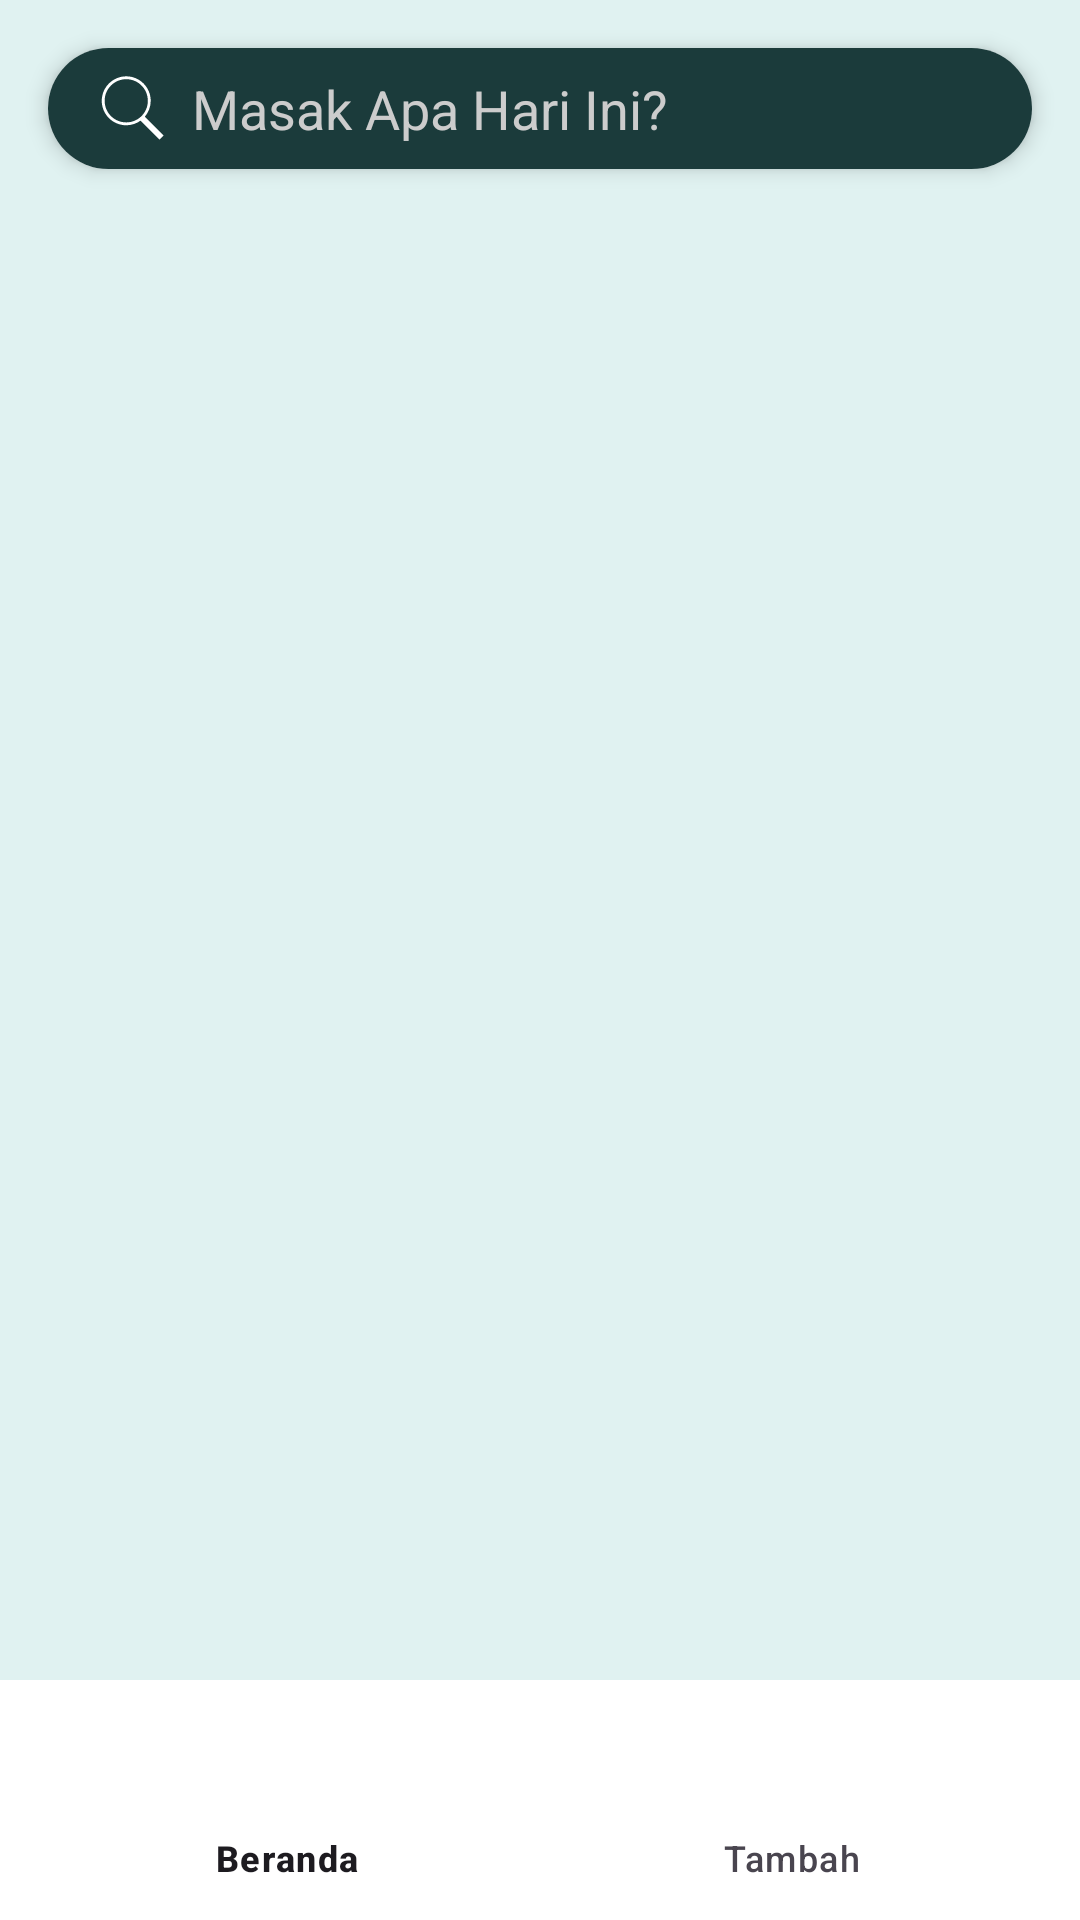

Named icons in this screenshot (1080px×1920px) and their bounding boxes, rect(x1, y1, x2, y2):
search: rect(101, 76, 164, 140)
